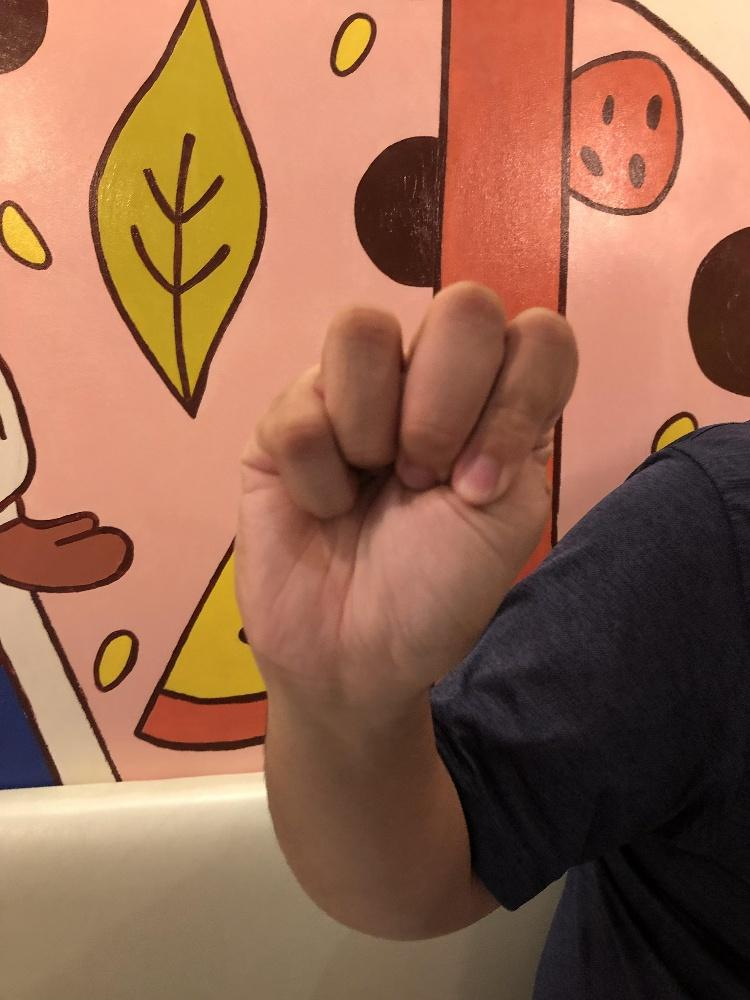m: (234, 278, 580, 694)
